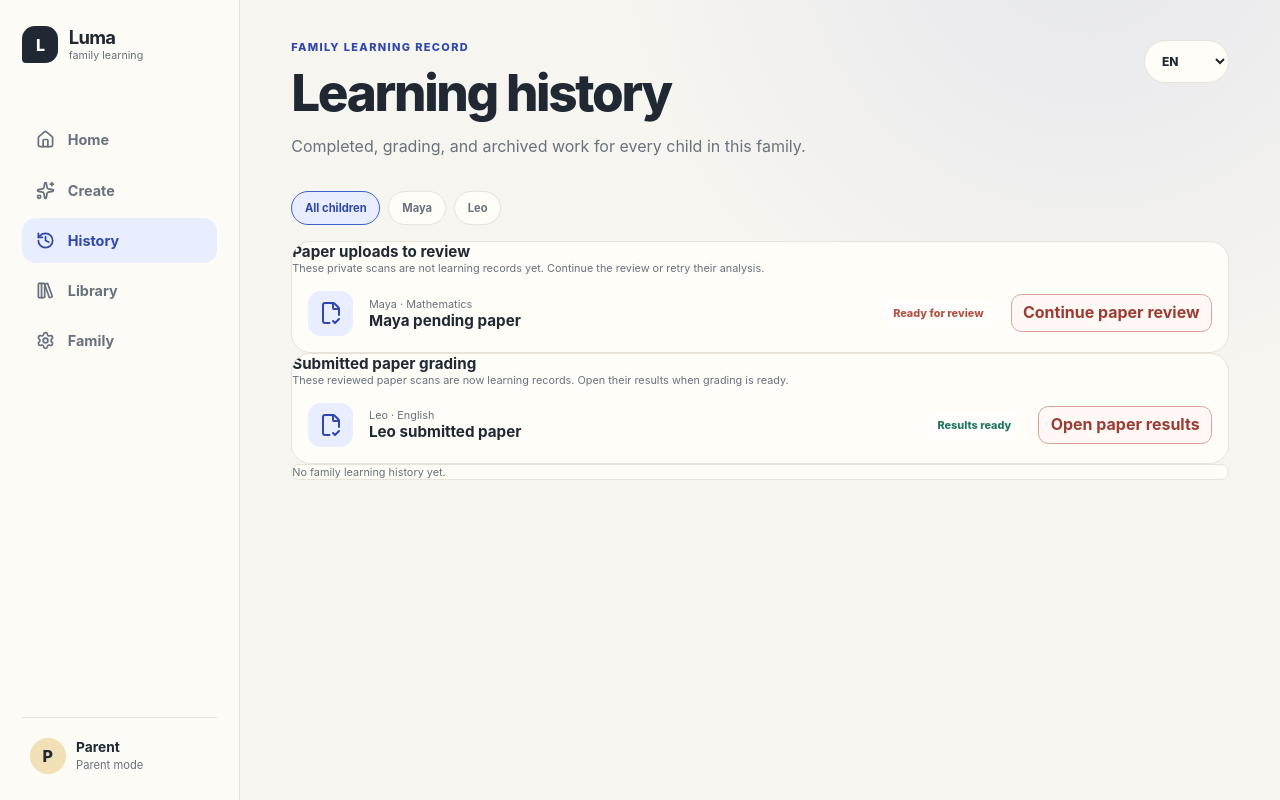
Test: ParentHistoryPage › applies the child filter to pending and submitted paper scans
Check: the heading "Paper uploads to review" is shown, box top-left (292, 242), bottom-right (470, 261)
What coordinates should you click on to do the following:
click the button "Maya"
I would click on:
 (417, 208)
Its box is top-left (388, 191), bottom-right (446, 225).
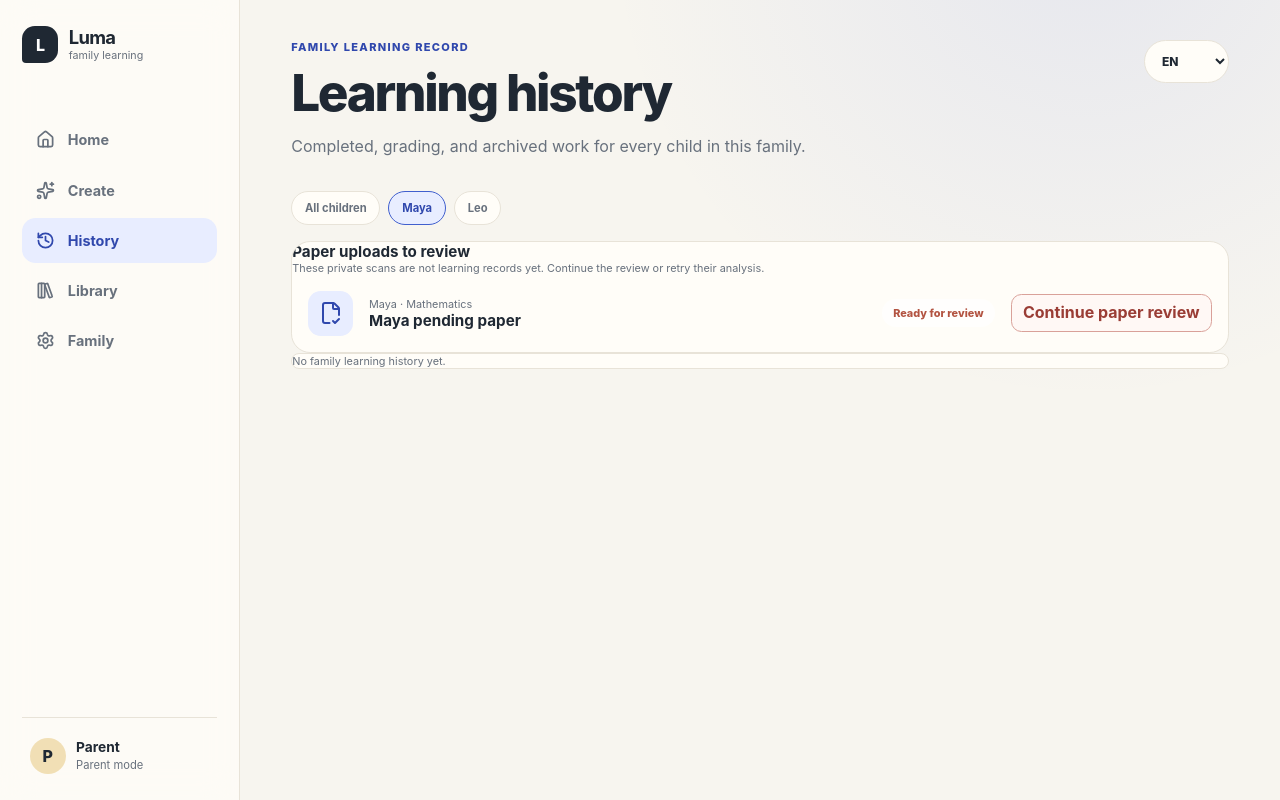
Check: the heading "Maya pending paper" is shown, box top-left (369, 311), bottom-right (521, 330)
Check: the heading "Leo submitted paper" is gone
